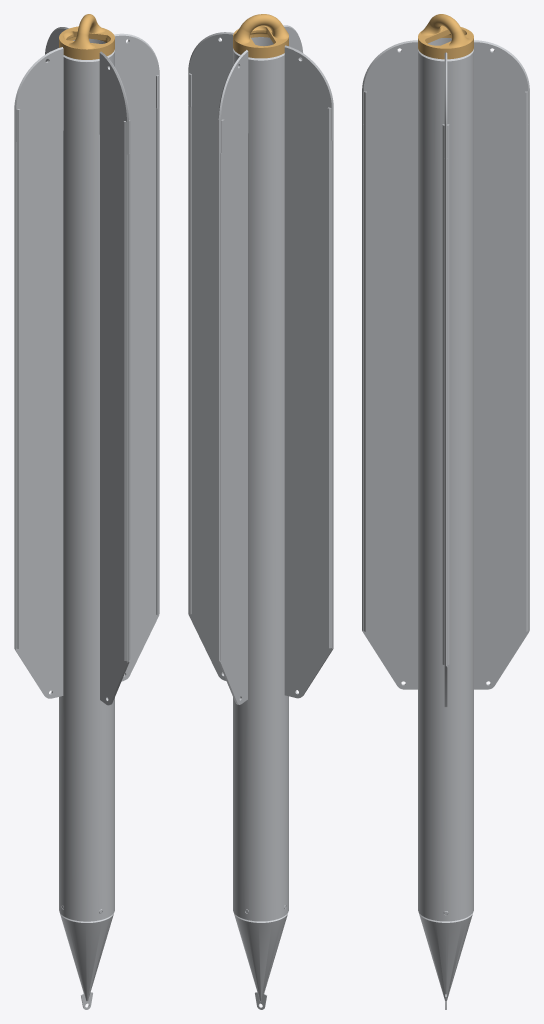
Rendered from estaca.glb.
3 views of the same model, side by side, from view 1: azimuth 30°, elevation 25°; view 2: azimuth 150°, elevation 25°; view 3: azimuth 270°, elevation 25° (orthographic).
Visible parts, largest first — view 1: estaca, olhal; view 2: estaca, olhal; view 3: estaca, olhal.
Boxes of the visible parts, box(x1,y1,x2,y2) form: estaca: box(14, 27, 159, 1009); olhal: box(59, 14, 114, 59); estaca: box(188, 25, 333, 1009); olhal: box(233, 14, 288, 58); estaca: box(362, 38, 529, 1009); olhal: box(418, 14, 473, 59).
Size of the model in its own units: 3.66 by 23.89 by 3.66.
